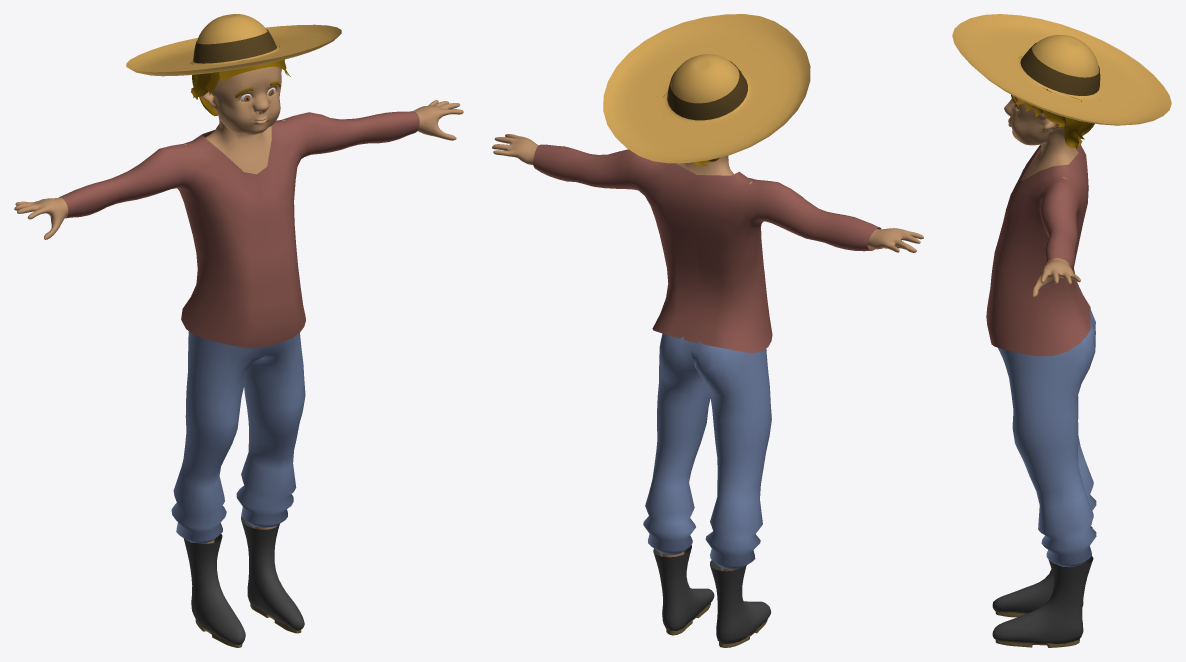
The model's file is campesinonino.fbx.
3 views of the same model, side by side, from view 1: azimuth 30°, elevation 25°; view 2: azimuth 150°, elevation 25°; view 3: azimuth 270°, elevation 25° (orthographic). The views are drawn at different scales.
Parts seen in each view (by area): view 1: prensa_personaje_director6_copy4, prensa_personaje_director6_copy3, prensa_personaje_director6_copy1, pCylinder11, prensa_personaje_director6_copy7; view 2: prensa_personaje_director6_copy4, pCylinder11, prensa_personaje_director6_copy3, prensa_personaje_director6_copy7, prensa_personaje_director6_copy1; view 3: prensa_personaje_director6_copy4, pCylinder11, prensa_personaje_director6_copy3, prensa_personaje_director6_copy7, prensa_personaje_director6_copy1, pPlane23.
Boxes of the visible parts, left/top/right/bottom form: prensa_personaje_director6_copy4: left=59, top=111, right=419, bottom=348; prensa_personaje_director6_copy3: left=171, top=331, right=305, bottom=543; prensa_personaje_director6_copy1: left=14, top=66, right=463, bottom=543; pCylinder11: left=126, top=14, right=341, bottom=76; prensa_personaje_director6_copy7: left=183, top=517, right=304, bottom=647; prensa_personaje_director6_copy4: left=533, top=144, right=880, bottom=353; pCylinder11: left=603, top=14, right=810, bottom=163; prensa_personaje_director6_copy3: left=643, top=333, right=771, bottom=569; prensa_personaje_director6_copy7: left=653, top=545, right=771, bottom=647; prensa_personaje_director6_copy1: left=492, top=134, right=923, bottom=571; prensa_personaje_director6_copy4: left=986, top=144, right=1090, bottom=356; pCylinder11: left=952, top=14, right=1171, bottom=125; prensa_personaje_director6_copy3: left=998, top=310, right=1096, bottom=567; prensa_personaje_director6_copy7: left=992, top=526, right=1093, bottom=647; prensa_personaje_director6_copy1: left=1004, top=96, right=1080, bottom=563; pPlane23: left=1047, top=89, right=1082, bottom=149.
Bounding box in the file's own units: 8.77 × 11.41 × 3.83.
